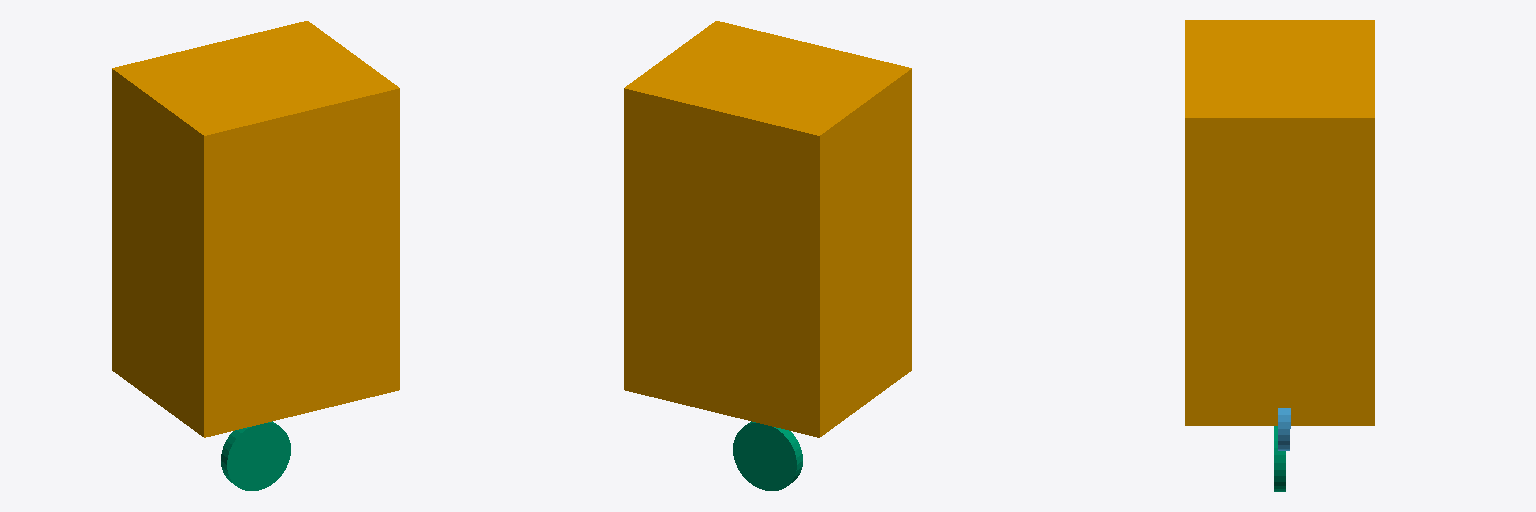
URDF robot description (diff_drive_robot):
<?xml version="1.0"?>
<robot name="diff_drive_robot" xmlns:xacro="http://www.ros.org/wiki/xacro">

  <!-- 基础链接 -->
  <link name="base_link">
    <visual>
      <geometry>
        <box size="0.55 0.45 0.81"/> <!-- 机器人主体尺寸 -->
      </geometry>
      <origin xyz="0 0 0.405"/>
      <material name="blue"/>
    </visual>
  </link>

  <!-- 左轮 -->
  <link name="left_wheel">
    <visual>
      <geometry>
        <cylinder radius="0.09" length="0.03"/> <!-- 左轮尺寸 -->
      </geometry>
      <origin rpy="1.57 0 0" xyz="0 0 0"/> <!-- 左轮位置 -->
      <material name="black"/>
    </visual>
  </link>

  <joint name="left_wheel_joint" type="continuous">
    <axis xyz="0 0 1"/>
    <limit effort="1000.0" lower="0.0" upper="0.548" velocity="0.5"/>
    <origin rpy="0 0 0" xyz="0.2 0.01 0"/>
    <parent link="base_link"/>
    <child link="left_wheel"/>
  </joint>

  <!-- 右轮 -->
  <link name="right_wheel">
    <visual>
      <geometry>
        <cylinder radius="0.09" length="0.03"/> <!-- 右轮尺寸 -->
      </geometry>
      <origin rpy="1.57 0 0" xyz="0 0 0"/> <!-- 右轮位置 -->
      <material name="black"/>
    </visual>
  </link>


  <joint name="right_wheel_joint" type="continuous">
    <parent link="base_link"/>
    <child link="right_wheel"/>
    <origin xyz="0 0 -0.2" rpy="0 0 0"/>
  </joint>

  <!-- 相机 -->
  <link name="camera_link">
    <visual>
      <geometry>
        <box size="0.03 0.08 0.03"/> <!-- 相机尺寸 -->
      </geometry>
      <origin xyz="0 0 0" rpy="0 0 0"/> <!-- 相机位置 -->
      <material name="red"/>
    </visual>
  </link>

  <joint name="camera_joint" type="fixed">
    <parent link="base_link"/>
    <child link="camera_link"/>
    <origin xyz="0.2 0 0.2" rpy="0 0 0"/>
  </joint>

  <!-- LiDAR -->
  <link name="lidar_link">
    <visual>
      <geometry>
        <cylinder radius="0.05" length="0.02"/> <!-- LiDAR 尺寸 -->
      </geometry>
      <origin xyz="0.1 0 0.15" rpy="0 0 0"/> <!-- LiDAR 位置 -->
      <material name="green"/>
    </visual>
  </link>

  <joint name="lidar_joint" type="fixed">
    <parent link="base_link"/>
    <child link="lidar_link"/>
    <origin xyz="0.1 0 0.15" rpy="0 0 0"/>
  </joint>

  <!-- IMU -->
  <link name="imu_link">
    <visual>
      <geometry>
        <box size="0.05 0.05 0.02"/> <!-- IMU 尺寸 -->
      </geometry>
      <origin xyz="-0.1 0 0.1" rpy="0 0 0"/> <!-- IMU 位置 -->
      <material name="yellow"/>
    </visual>
  </link>

  <joint name="imu_joint" type="fixed">
    <parent link="base_link"/>
    <child link="imu_link"/>
    <origin xyz="-0.1 0 0.1" rpy="0 0 0"/>
  </joint>

</robot>

--- What the picture shows (computed from the rendered views, not written in the file) ---
Views: 3 orthographic renders of the robot side by side, from view 1: azimuth 30°, elevation 25°; view 2: azimuth 150°, elevation 25°; view 3: azimuth 270°, elevation 25°.
Model diff_drive_robot with 6 links and 5 joints (2 continuous, 3 fixed), rooted at base_link, posed every joint at zero.
Links seen in each view (by area): view 1: base_link, right_wheel; view 2: base_link, right_wheel; view 3: base_link, right_wheel, left_wheel.
Link boxes in pixels (x1,y1,x2,y2): base_link: (112,21,399,437); right_wheel: (221,421,290,490); base_link: (624,21,911,437); right_wheel: (733,421,802,490); base_link: (1185,20,1374,425); right_wheel: (1274,426,1285,491); left_wheel: (1278,408,1290,450).
Size in the robot's own frame: 0.565 by 0.45 by 1.1 metres.
Geometry: primitives only (box / cylinder / sphere), no mesh files.